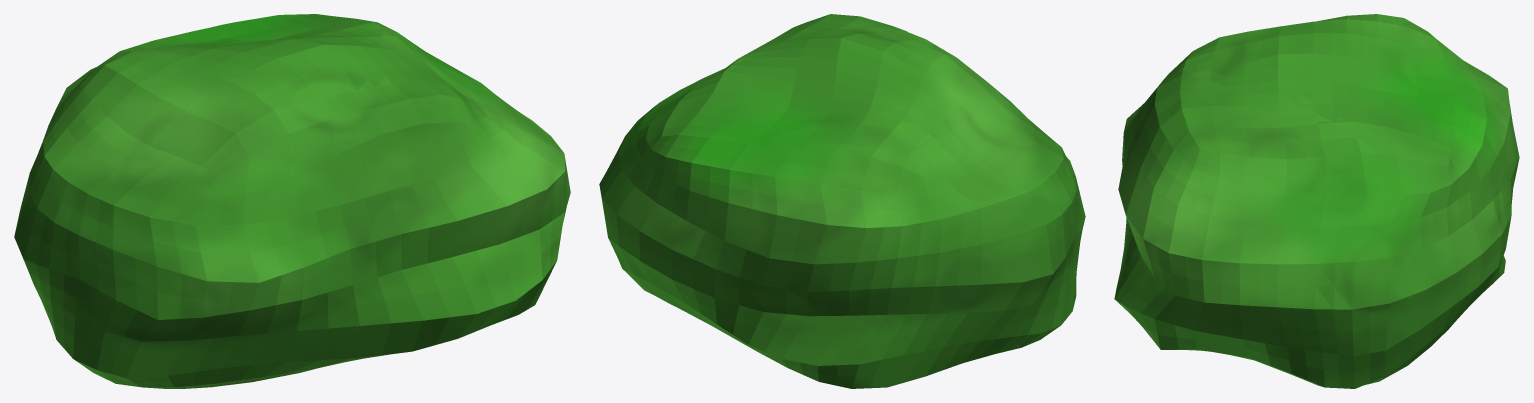
The model's file is bush.fbx.
The picture shows the model from 3 angles, left to right: view 1: azimuth 30°, elevation 25°; view 2: azimuth 150°, elevation 25°; view 3: azimuth 270°, elevation 25°; orthographic projection. The views are drawn at different scales.
Parts seen in each view (by area): view 1: Cube; view 2: Cube; view 3: Cube.
Part boxes in pixels (<box>): Cube: <box>14,14,570,388</box>; Cube: <box>599,14,1085,388</box>; Cube: <box>1114,14,1519,388</box>.
Size of the model in its own units: 746 by 439 by 582.
1 material, 1 textured.
